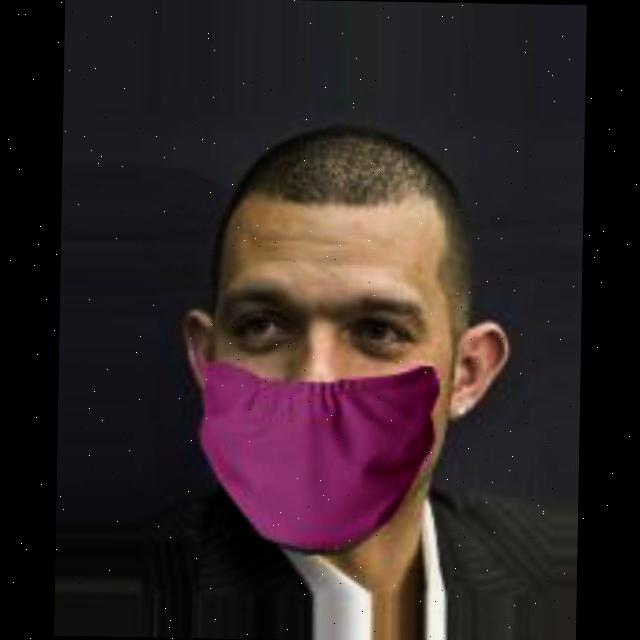suspicion: (144, 132, 494, 540)
